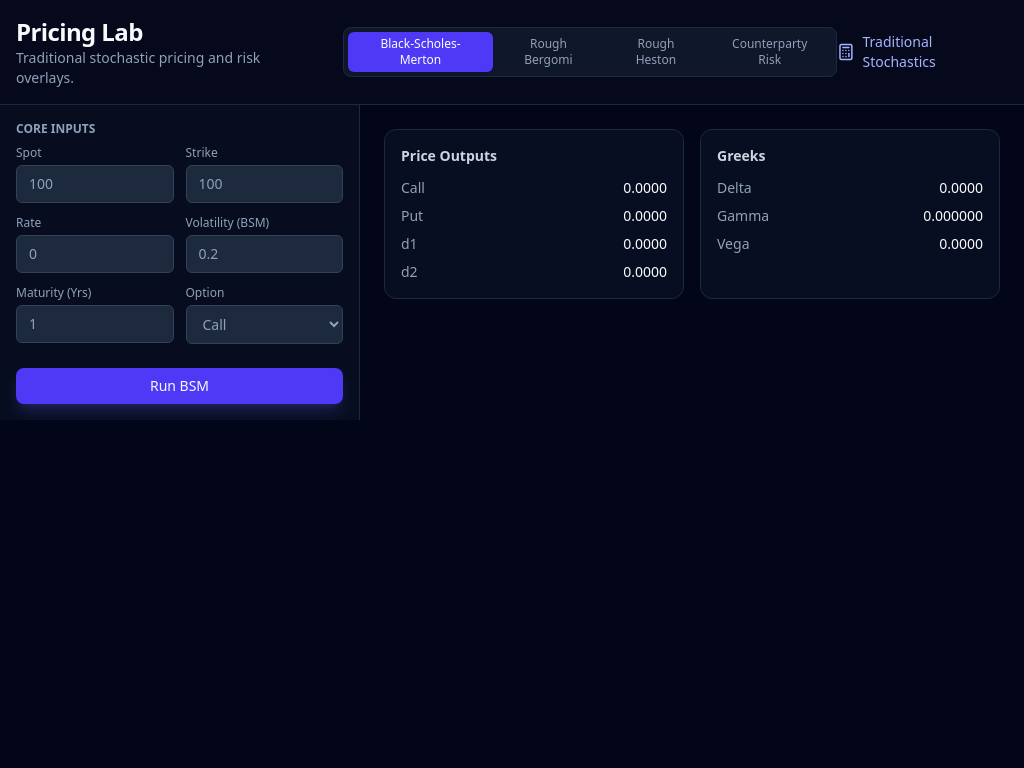
PricingTab › should switch to Rough Bergomi and run simulation
Click the button "Rough Bergomi" at [548, 52], box [493, 32, 604, 72]
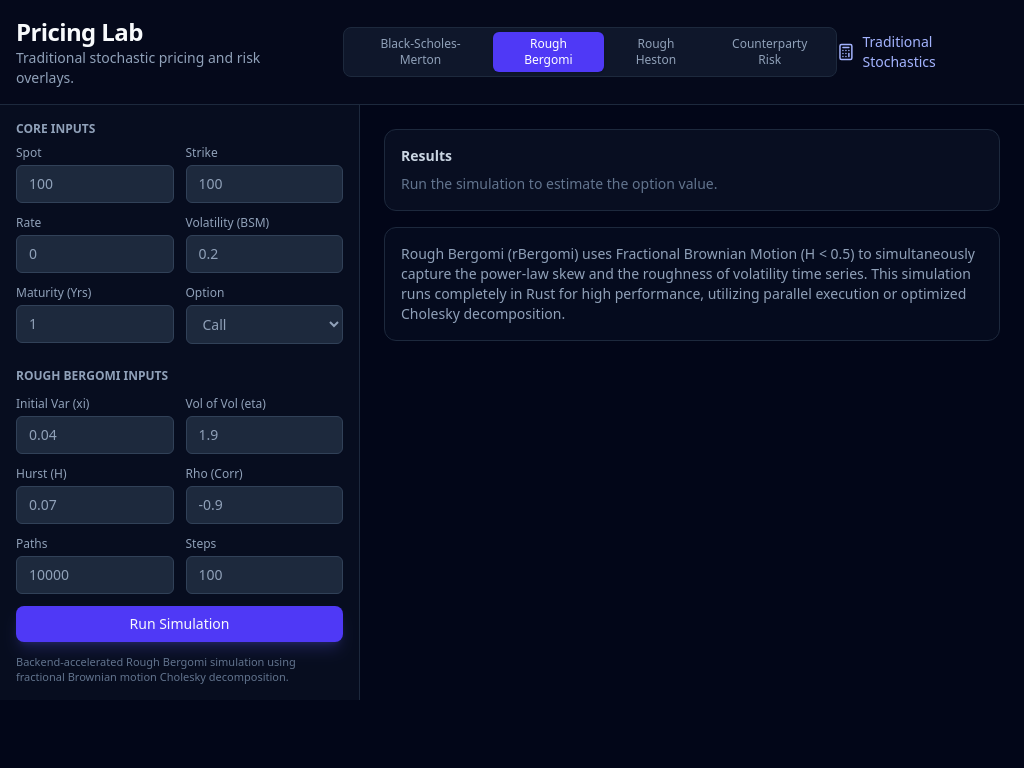
Expected: the heading "Rough Bergomi Inputs" is shown, [16, 367, 168, 384]
Click the button "Run Simulation" at [180, 624], box [16, 606, 343, 642]
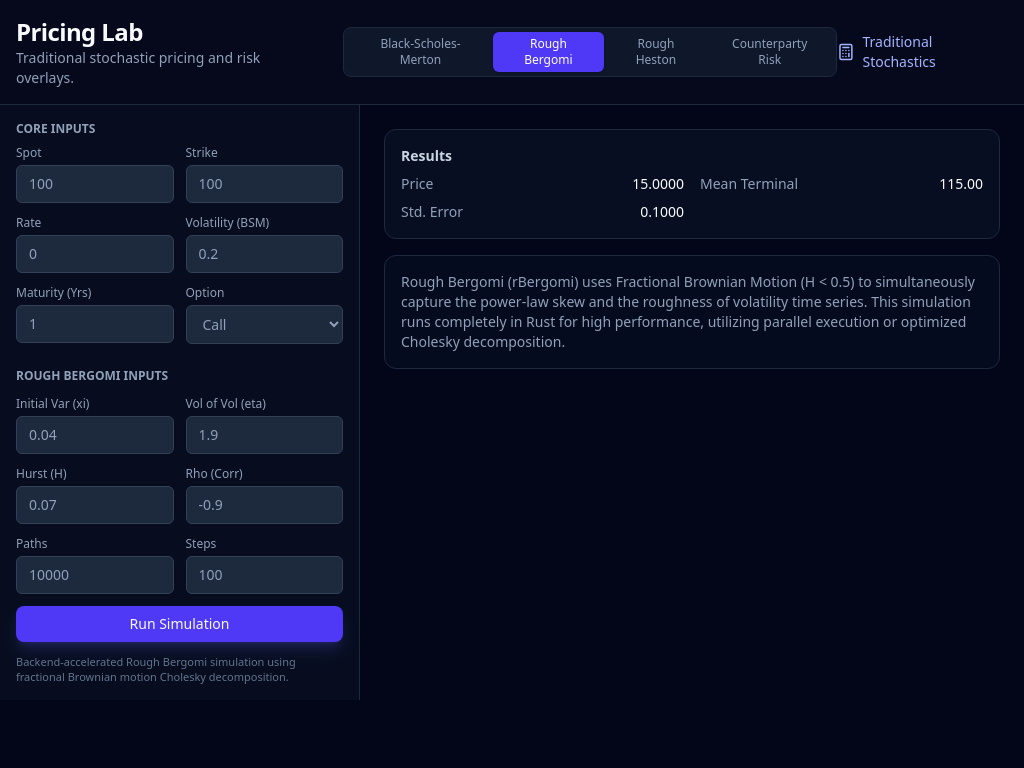
Expected: the text "15.0000" is shown, [632, 174, 684, 194]
